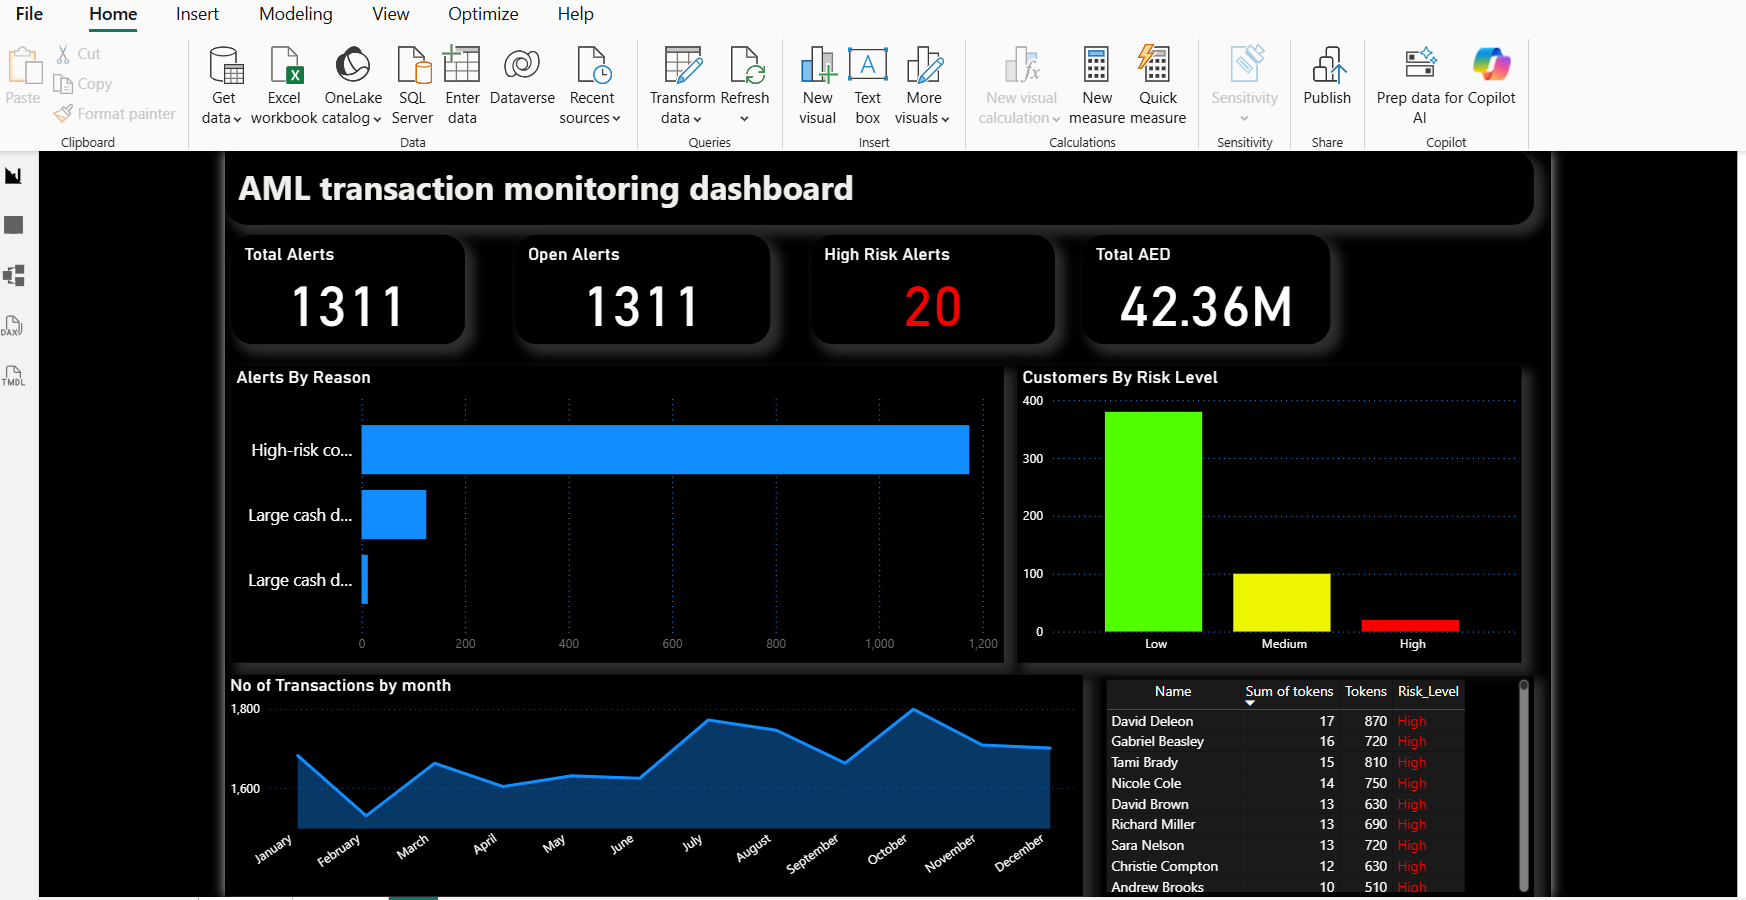

This screenshot's page, from the dashboard's own definition file:
{"tool":"powerbi","page":{"name":"Page 1","canvas":[1280,720],"ordinal":0},"visuals":[{"type":"shape","box":[0,0,279.9,720.4],"z":0},{"type":"textbox","box":[0,0,1262.9,71.3],"z":1000},{"type":"card","title":"Total Alerts","fields":{"Values":["Count(alerts.alert_id)"]},"box":[5.7,81.2,225.2,105.5],"z":1001},{"type":"card","title":"Open Alerts","fields":{"Values":["alerts.Open Alerts"]},"box":[279.4,81.2,246.6,105.5],"z":1002},{"type":"card","title":"High Risk Alerts","fields":{"Values":["alerts.High_Risk"]},"box":[565.9,81.2,235.2,105.5],"z":1003},{"type":"card","title":"Total AED","fields":{"Values":["alerts.Total_Amount"]},"box":[828.2,81.2,239.5,105.5],"z":1004},{"type":"barChart","title":"Alerts By Reason","fields":{"Category":["alerts.alert_reason"],"Y":["CountNonNull(alerts.alert_id)"]},"box":[5.7,208.1,745.5,286.5],"z":1005},{"type":"columnChart","title":"Customers By Risk Level","fields":{"Category":["customer_risk.risk_level"],"Y":["CountNonNull(customer_risk.customer_id)"]},"box":[765.4,208.1,486.1,286.5],"z":1006},{"type":"lineChart","title":"No of Transactions by month","fields":{"Category":["transactions (2).txn_date.Variation.Date Hierarchy.Month"],"Y":["CountNonNull(transactions (2).txn_id)"]},"box":[0,506,828.2,213.8],"z":1010},{"type":"tableEx","fields":{"Values":["customer_risk.customer_name","Sum(customer_risk.flagged_txns)","Sum(customer_risk.risk_score)","customer_risk.risk_level"]},"box":[844.5,505.5,418.6,214.7],"z":1011}]}

Visuals, with their boxes on the page's 1280x720 design canvas (x1, y1, x2, y2). These are canvas units, not pixel positions in the 1746x900 screenshot, which may show the page scaled, cropped or inside an application window:
shape: Rect(0, 0, 280, 720)
textbox: Rect(0, 0, 1263, 71)
"Total Alerts" card: Rect(6, 81, 231, 187)
"Open Alerts" card: Rect(279, 81, 526, 187)
"High Risk Alerts" card: Rect(566, 81, 801, 187)
"Total AED" card: Rect(828, 81, 1068, 187)
"Alerts By Reason" barChart: Rect(6, 208, 751, 495)
"Customers By Risk Level" columnChart: Rect(765, 208, 1252, 495)
"No of Transactions by month" lineChart: Rect(0, 506, 828, 720)
tableEx - customer_risk.customer_name x Sum(customer_risk.flagged_txns): Rect(844, 506, 1263, 720)
